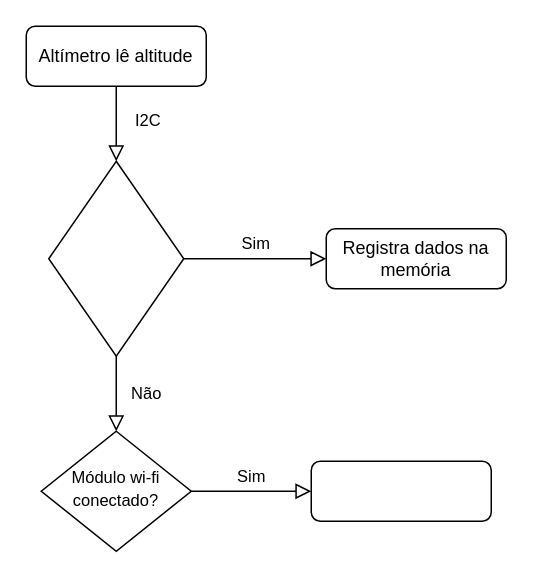
Image size: 533x578. Some labels were removed from this diagram. The shapes that lost their labels are listed below. From the top down, each one's centre as x and y in pixels, then its label:
At (x=115, y=258): "Sistema em modo de escrita?".
At (x=400, y=490): "Lê dados da memória e transmite via wi-fi".
